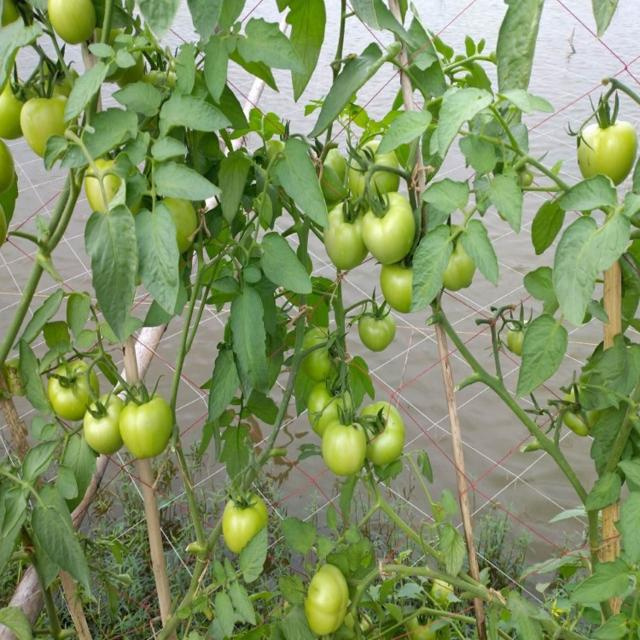tomato: (119, 387, 177, 461), (359, 191, 414, 263), (577, 120, 637, 183), (48, 363, 104, 418), (308, 567, 349, 636), (227, 492, 273, 550), (365, 403, 406, 467), (325, 418, 370, 473), (327, 202, 361, 268), (24, 93, 68, 142), (87, 395, 123, 454), (48, 1, 97, 42), (307, 327, 342, 377), (84, 159, 123, 203), (312, 381, 346, 430), (382, 266, 415, 313), (360, 312, 396, 354), (351, 151, 393, 187), (446, 248, 477, 291), (1, 88, 23, 142), (175, 202, 200, 246), (412, 613, 441, 640), (1, 145, 16, 189), (328, 152, 347, 181), (512, 319, 525, 348), (570, 414, 587, 433)
